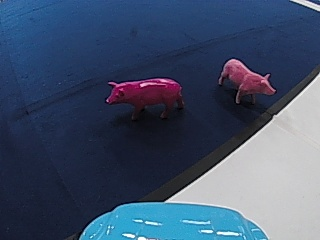pig: (102, 74, 186, 120), (217, 57, 277, 104)
